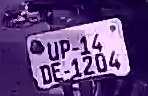0: (93, 51, 107, 74)
1: (78, 34, 91, 56), (70, 57, 81, 80)
2: (82, 55, 95, 77)
4: (106, 49, 122, 72), (91, 33, 103, 52)
D: (39, 62, 52, 85)
E: (50, 61, 64, 82)
P: (58, 38, 70, 60)
U: (45, 39, 60, 61)
